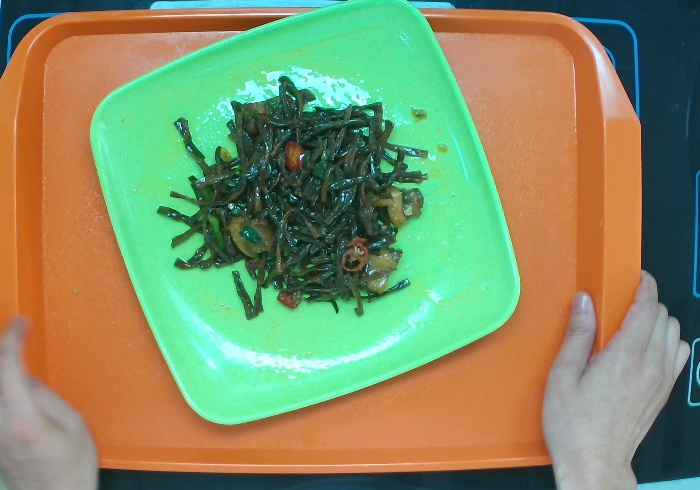ZNLD-Lv_Fang_Pan: (89, 1, 523, 429)
